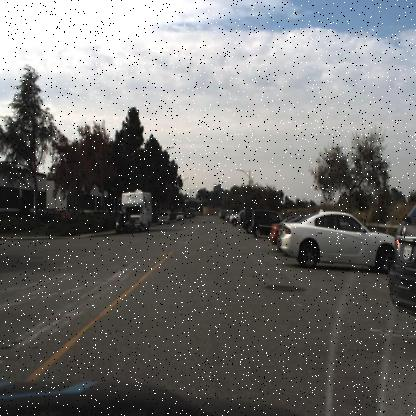car: (283, 211, 394, 264), (388, 200, 415, 330), (252, 210, 285, 241), (231, 207, 256, 229), (113, 212, 132, 235), (158, 210, 172, 226), (174, 209, 184, 222)
truck: (119, 188, 156, 230)
